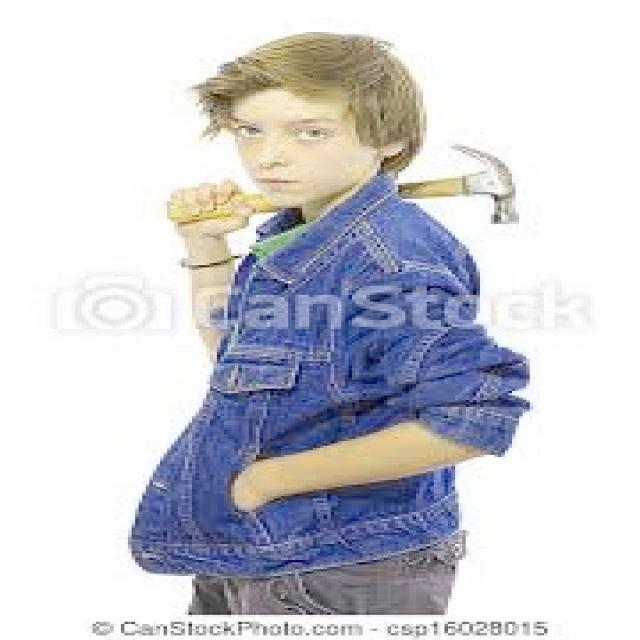hammer: (122, 132, 546, 270)
